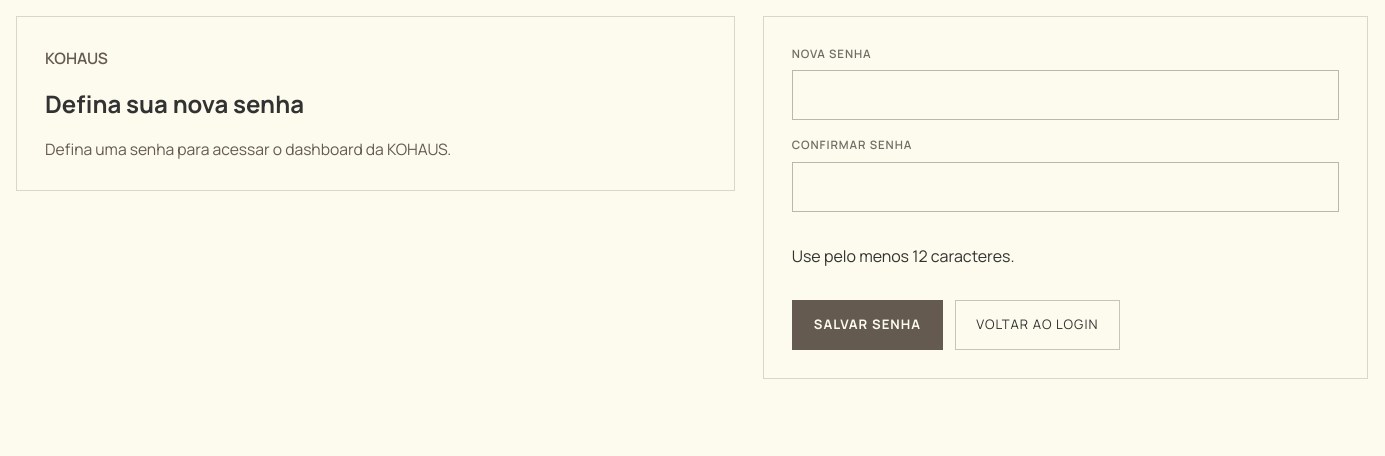
shows a recoverable error when saving fails
The width and height of the screenshot is (1385, 456).
Type "example-password" into the password field labelled "Nova senha" at (1065, 95), box [792,70,1339,120]
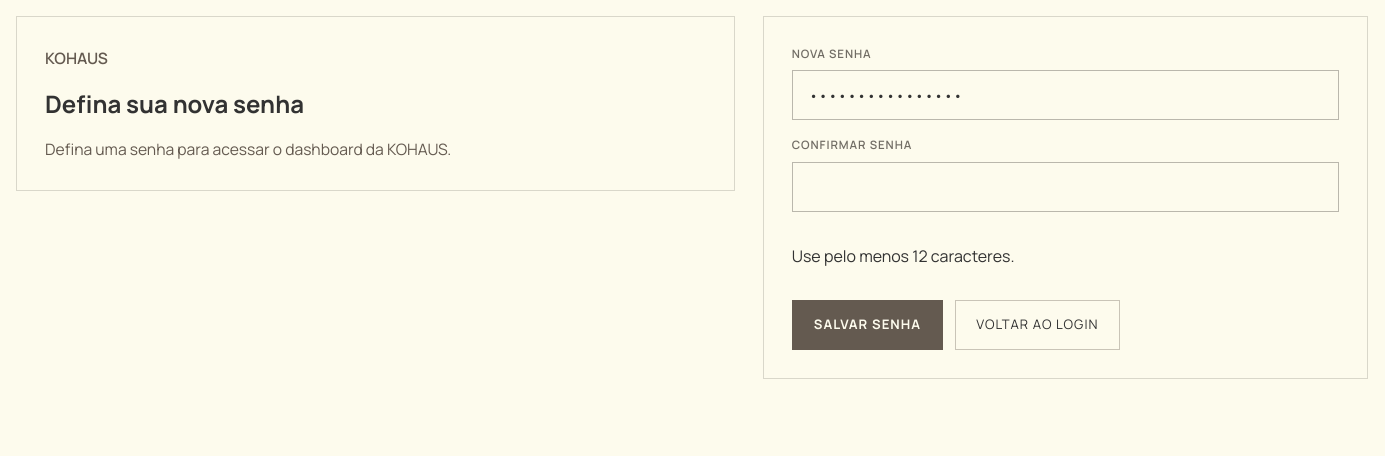
Type "example-password" into the password field labelled "Confirmar senha" at (1065, 186), box [792,162,1339,212]
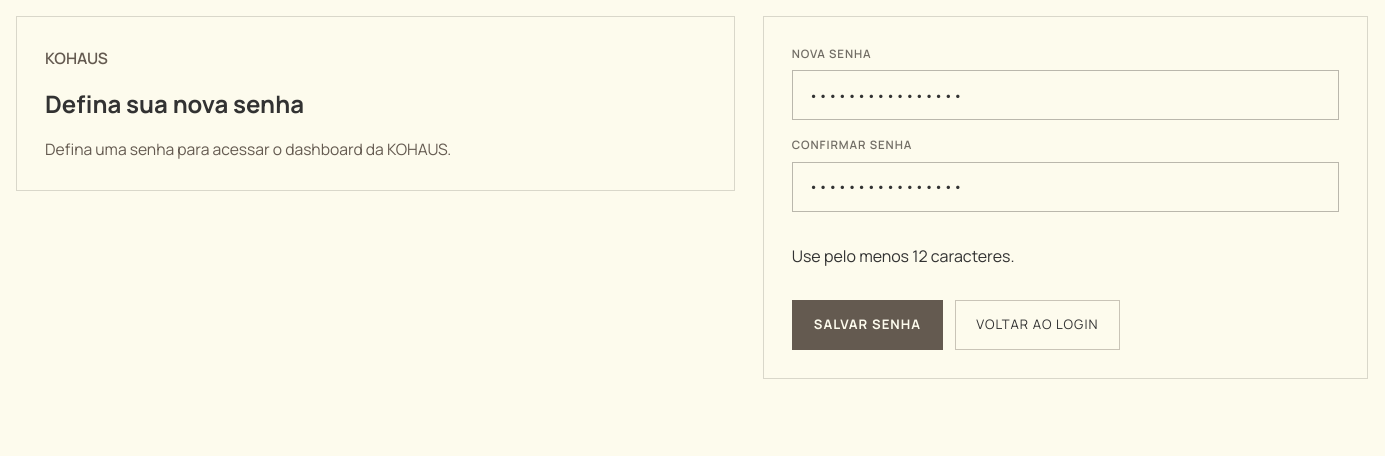
Click the button "Salvar senha" at (867, 324), box [792,300,943,350]
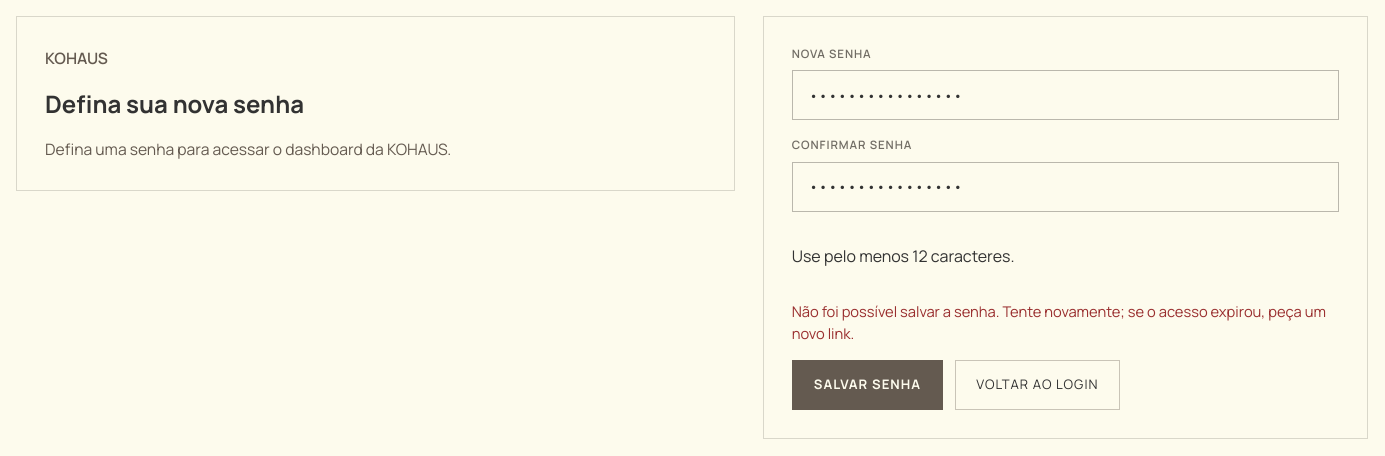
Expected: the button "Salvar senha" is enabled, [792,360,943,410]
Expected: the message shows "Não foi possível", [792,300,1326,343]
